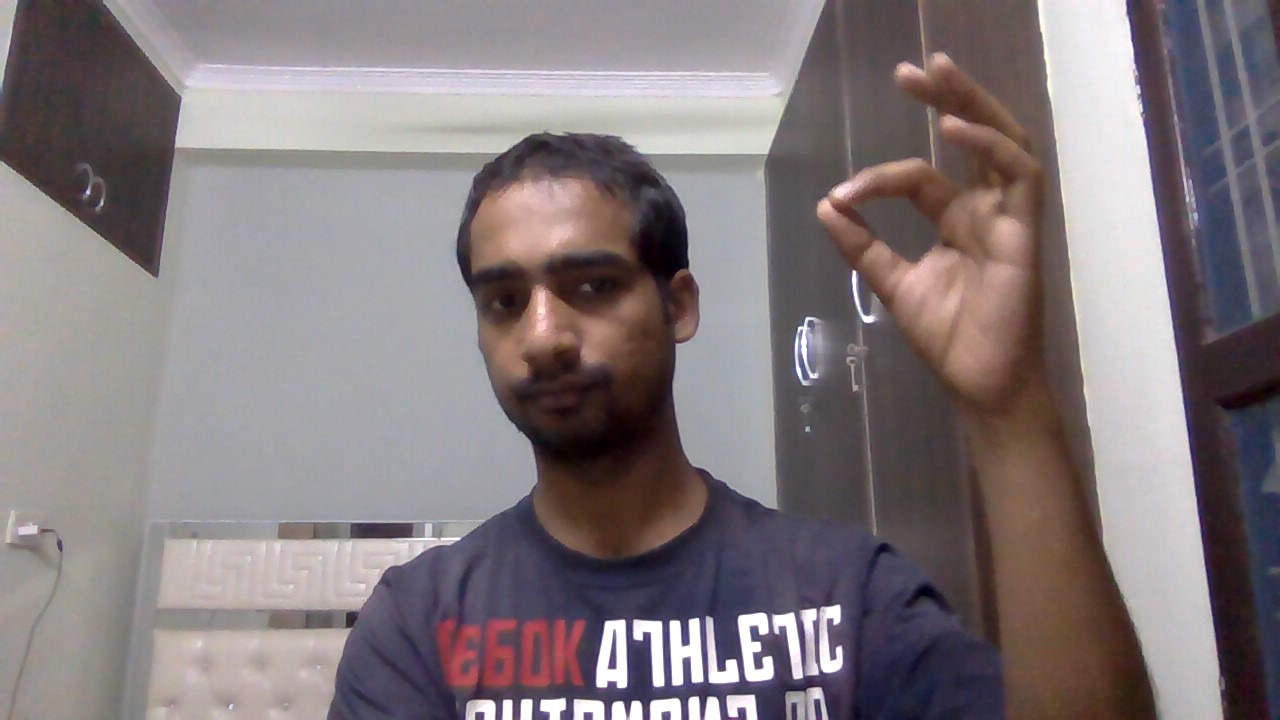Copy: (804, 41, 1108, 416)
